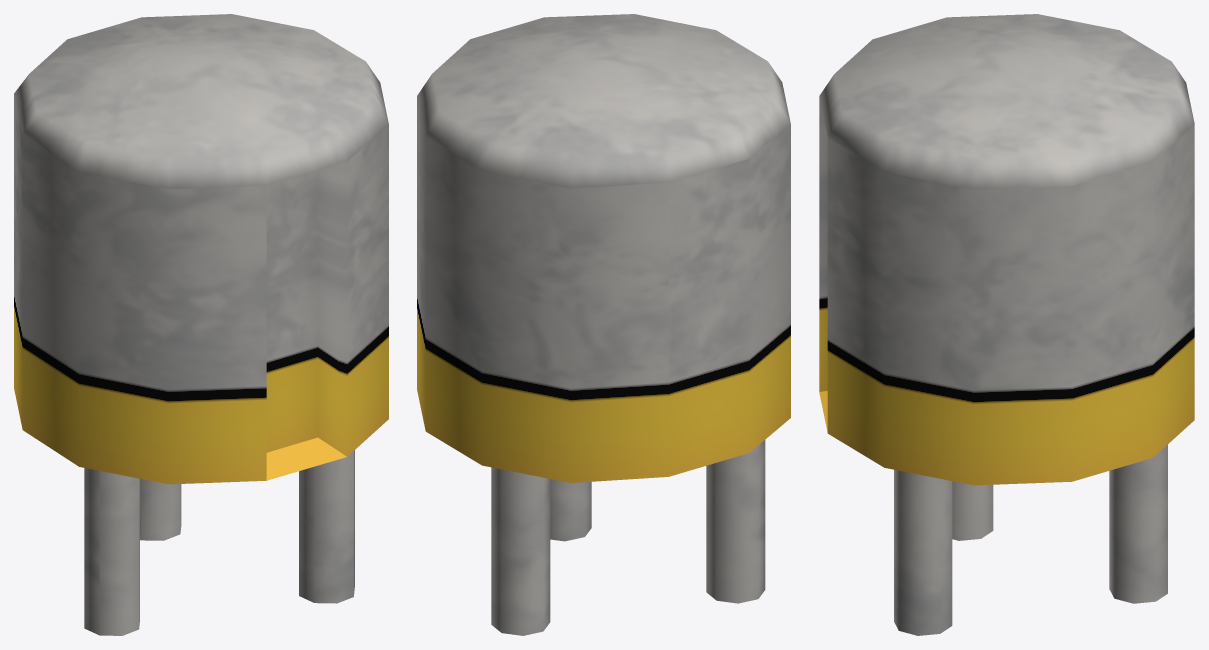
Rendered from Refuel_05.fbx.
3 renders of one model, left to right at view 1: azimuth 30°, elevation 25°; view 2: azimuth 150°, elevation 25°; view 3: azimuth 270°, elevation 25°, orthographic.
Visible parts, largest first — view 1: Refuel_05; view 2: Refuel_05; view 3: Refuel_05.
Boxes of the visible parts, x1,y1,x2,y2 form: Refuel_05: (14,14,388,635); Refuel_05: (417,14,790,635); Refuel_05: (819,14,1194,635).
Size of the model in its own units: 14.39 by 21.99 by 14.39.
